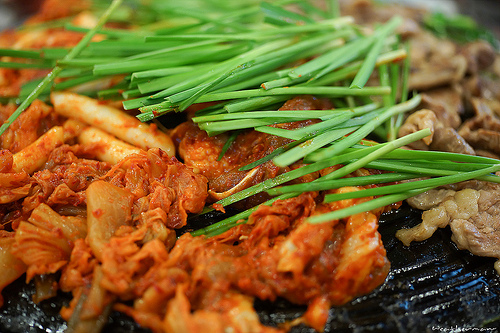bulgogi: (401, 24, 500, 271)
